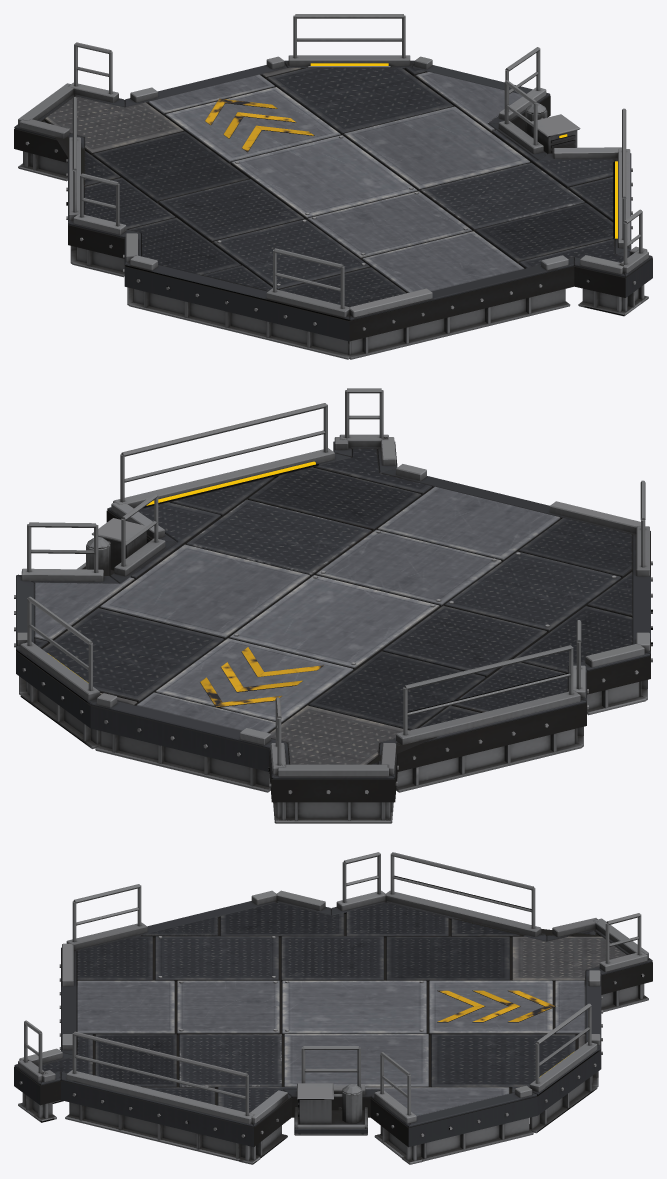
The model's file is nodexeus-set-deck-h.glb.
3 views of the same model, one above another, from view 1: azimuth 30°, elevation 25°; view 2: azimuth 150°, elevation 25°; view 3: azimuth 270°, elevation 25° (orthographic). The views are drawn at different scales.
Visible parts, largest first — view 1: set-deck-h; view 2: set-deck-h; view 3: set-deck-h.
Boxes of the visible parts, x1=… form: set-deck-h: x1=14, y1=14, x2=652, y2=359; set-deck-h: x1=14, y1=388, x2=652, y2=823; set-deck-h: x1=14, y1=852, x2=652, y2=1164.
Bounding box in the file's own units: 10.43 × 1.86 × 12.17.
1 material, 1 textured.
